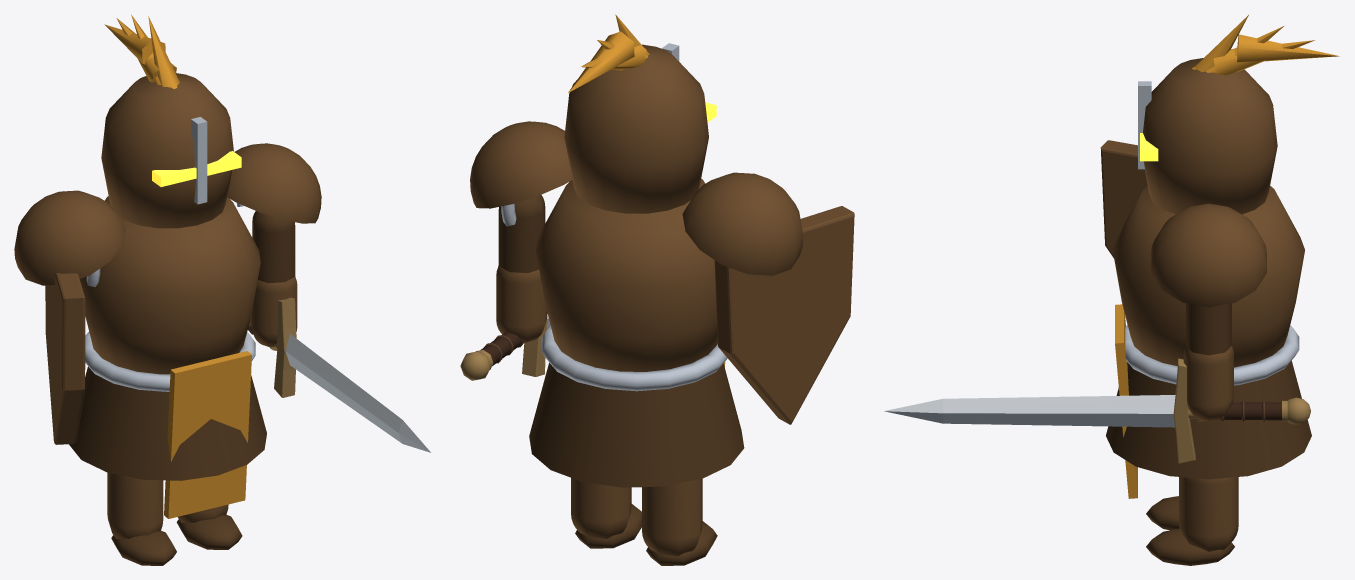
File: mob_knight.glb
3 renders of one model, left to right at view 1: azimuth 30°, elevation 25°; view 2: azimuth 150°, elevation 25°; view 3: azimuth 270°, elevation 25°, orthographic. The views are drawn at different scales.
Visible parts, largest first — view 1: mob_body__m18_ow100_, mob_body__m2_ow100_, mob_body_dark55__m1_ow100_, m0_ow100_, mob_body__m16_ow100_, m12_ow100_, mob_body__m6_ow100_, mob_body_dark55__m10_ow100_, m5_ow100_, m19_ow100_, mob_body__m11_ow100_, m14_ow100_ (+4 smaller); view 2: mob_body__m18_ow100_, mob_body_dark55__m1_ow100_, mob_body__m2_ow100_, mob_body__m16_ow100_, m19_ow100_, mob_body__m6_ow100_, mob_body__m11_ow100_, mob_body__m8_ow100_, mob_body_dark55__m10_ow100_, m5_ow100_, m14_ow100_, mob_body_dark55__m7_ow100_ (+2 smaller); view 3: mob_body__m18_ow100_, mob_body__m2_ow100_, mob_body_dark55__m1_ow100_, m12_ow100_, mob_body__m8_ow100_, mob_body__m16_ow100_, m5_ow100_, mob_body__m11_ow100_, m19_ow100_, mob_body_dark55__m10_ow100_, m14_ow100_, mob_body_dark55__m9_ow100_ (+4 smaller).
Boxes of the visible parts, x1,y1,x2,y2 form: mob_body__m18_ow100_: [14, 143, 321, 374]; mob_body__m2_ow100_: [101, 73, 233, 228]; mob_body_dark55__m1_ow100_: [69, 366, 266, 480]; m0_ow100_: [164, 351, 251, 518]; mob_body__m16_ow100_: [45, 273, 85, 444]; m12_ow100_: [285, 334, 430, 452]; mob_body__m6_ow100_: [107, 472, 163, 538]; mob_body_dark55__m10_ow100_: [252, 211, 295, 283]; m5_ow100_: [104, 14, 179, 89]; m19_ow100_: [85, 203, 255, 391]; mob_body__m11_ow100_: [250, 276, 297, 347]; m14_ow100_: [270, 297, 296, 397]; mob_body__m18_ow100_: [470, 121, 803, 371]; mob_body_dark55__m1_ow100_: [529, 362, 744, 487]; mob_body__m2_ow100_: [564, 44, 708, 213]; mob_body__m16_ow100_: [714, 206, 854, 424]; m19_ow100_: [501, 203, 727, 391]; mob_body__m6_ow100_: [642, 478, 702, 556]; mob_body__m11_ow100_: [496, 266, 547, 343]; mob_body__m8_ow100_: [571, 478, 631, 538]; mob_body_dark55__m10_ow100_: [498, 194, 545, 272]; m5_ow100_: [568, 14, 649, 92]; m14_ow100_: [460, 317, 547, 380]; mob_body_dark55__m7_ow100_: [646, 521, 717, 565]; mob_body__m18_ow100_: [1112, 186, 1304, 367]; mob_body__m2_ow100_: [1143, 58, 1277, 214]; mob_body_dark55__m1_ow100_: [1106, 360, 1311, 479]; m12_ow100_: [884, 395, 1175, 427]; mob_body__m8_ow100_: [1179, 477, 1238, 551]; mob_body__m16_ow100_: [1100, 140, 1147, 258]; m5_ow100_: [1192, 15, 1339, 75]; mob_body__m11_ow100_: [1183, 346, 1233, 421]; m19_ow100_: [1125, 325, 1299, 385]; mob_body_dark55__m10_ow100_: [1186, 303, 1231, 355]; m14_ow100_: [1173, 358, 1310, 463]; mob_body_dark55__m9_ow100_: [1146, 529, 1234, 565].
Size of what is drawn, in the model's own units: 1.55 by 2.56 by 1.99.
